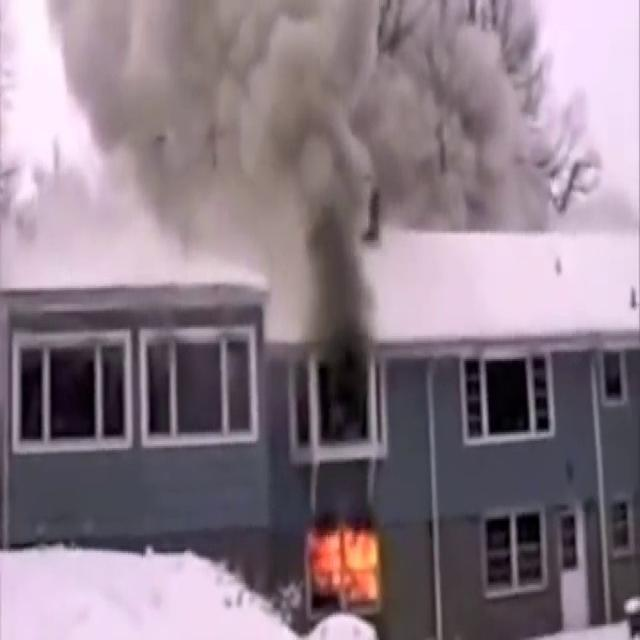Fire: (303, 502, 394, 622)
Smoke: (3, 0, 550, 295)
